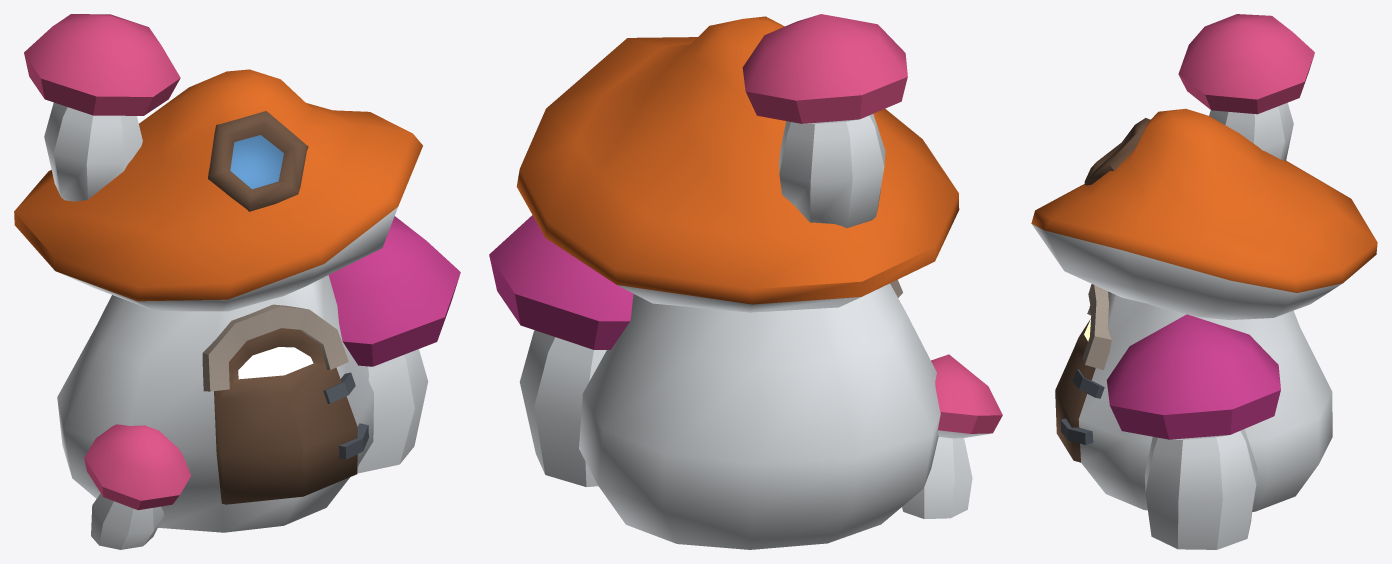
File: casa_cogumelo_fantasia_pacote.glb
3 renders of one model, left to right at view 1: azimuth 30°, elevation 25°; view 2: azimuth 150°, elevation 25°; view 3: azimuth 270°, elevation 25°, orthographic. The views are drawn at different scales.
Visible parts, largest first — view 1: casa_cogumelo_fantasia_pacote; view 2: casa_cogumelo_fantasia_pacote; view 3: casa_cogumelo_fantasia_pacote.
Boxes of the visible parts, bbox=[...] form: casa_cogumelo_fantasia_pacote: bbox=[14, 14, 460, 549]; casa_cogumelo_fantasia_pacote: bbox=[489, 14, 1002, 549]; casa_cogumelo_fantasia_pacote: bbox=[1031, 14, 1377, 549].
Bounding box in the file's own units: 5.89 × 6.75 × 5.15.
Materials: 3 (1 with a texture image).
